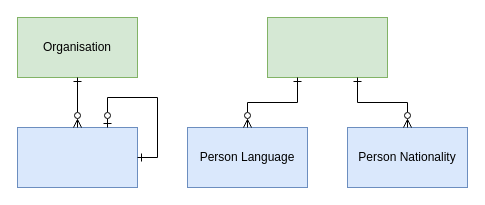
Image size: 485x205. Some labels were removed from this diagram. The shapes that lost their labels are listed below. From the top down, each one's centre as x and y in pixels, then its label:
pixel 327 47: Person
pixel 77 157: Organisational Unit
